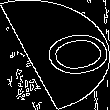O_W: (10, 26, 100, 84)
